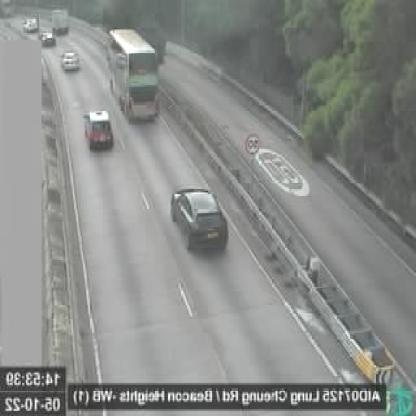Bus: (109, 28, 160, 123)
Car: (172, 185, 228, 255), (84, 109, 115, 151), (62, 47, 80, 71), (43, 31, 56, 45)
Truck: (52, 7, 70, 35)
